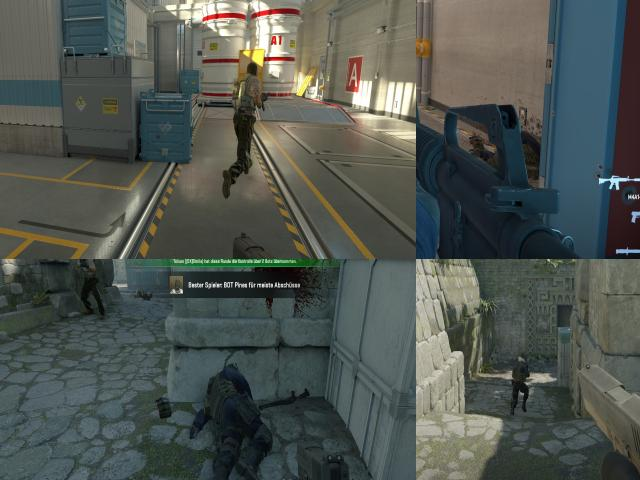Bomb: (232, 78, 242, 102)
CT: (508, 348, 534, 414)
CT-Head: (514, 352, 528, 367)
Dead: (201, 341, 267, 480), (474, 132, 541, 180)
T: (228, 61, 263, 186), (77, 259, 101, 330)
T-Head: (244, 62, 259, 81)
